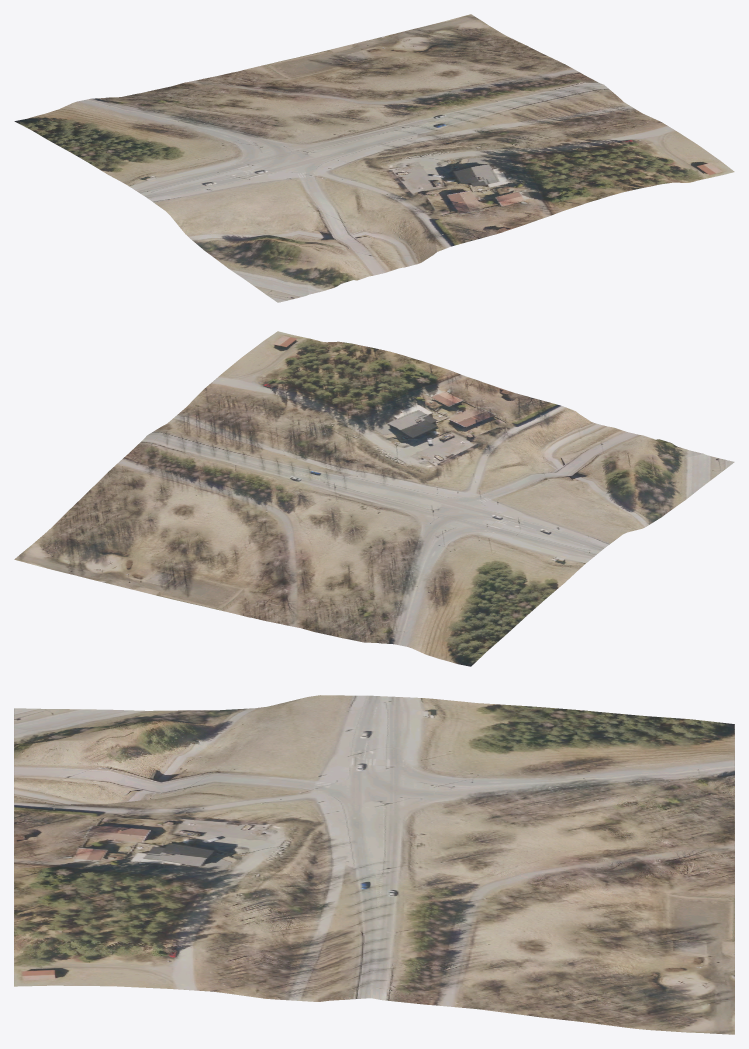
The model's file is CM_Terrain_24491073_6818770.fbx.
The picture shows the model from 3 angles, top to bottom: view 1: azimuth 30°, elevation 25°; view 2: azimuth 150°, elevation 25°; view 3: azimuth 270°, elevation 25°; orthographic projection. The views are drawn at different scales.
Visible parts, largest first — view 1: CM_Terrain_24491073_6818770_LOD0; view 2: CM_Terrain_24491073_6818770_LOD0; view 3: CM_Terrain_24491073_6818770_LOD0.
Boxes of the visible parts, bbox=[...] form: CM_Terrain_24491073_6818770_LOD0: bbox=[14, 14, 734, 302]; CM_Terrain_24491073_6818770_LOD0: bbox=[14, 331, 734, 666]; CM_Terrain_24491073_6818770_LOD0: bbox=[14, 695, 734, 1034].
Size of what is drawn, in the model's own units: 205 by 18.59 by 205.
